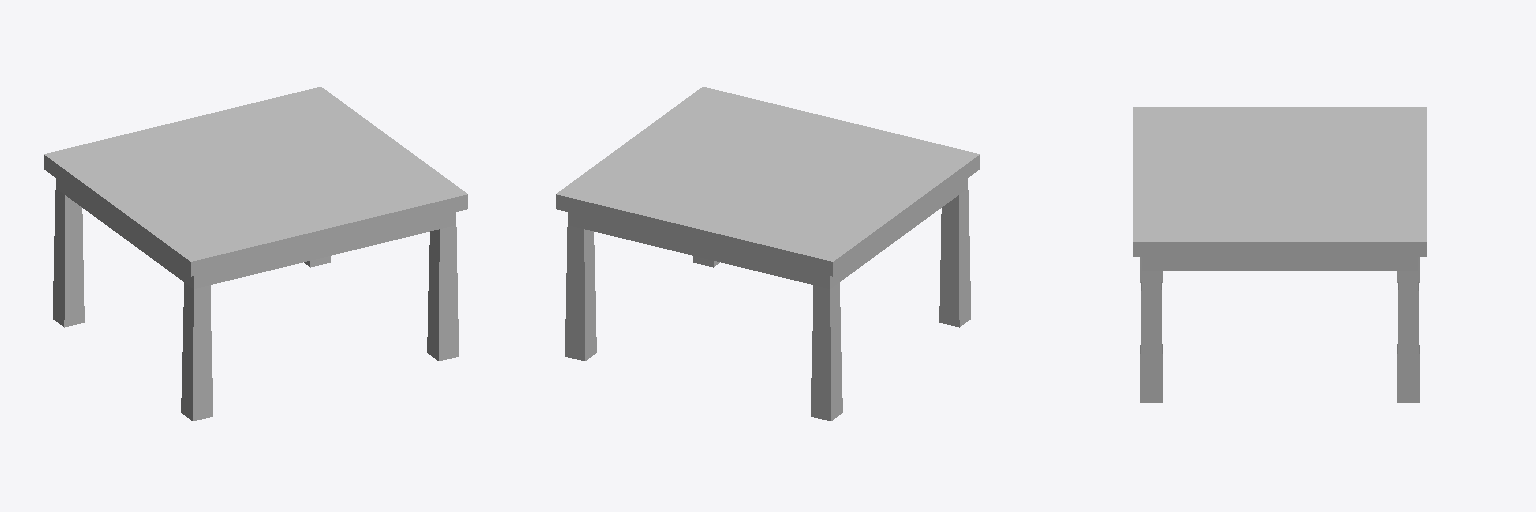
The model's file is Table.obj.
3 renders of one model, left to right at view 1: azimuth 30°, elevation 25°; view 2: azimuth 150°, elevation 25°; view 3: azimuth 270°, elevation 25°, orthographic.
Visible parts, largest first — view 1: Table; view 2: Table; view 3: Table.
Boxes of the visible parts, box(x1,y1,x2,y2) form: Table: box(44, 87, 467, 420); Table: box(556, 87, 979, 420); Table: box(1133, 107, 1426, 402).
Bounding box in the file's own units: 1.11 × 0.6228 × 1.02.